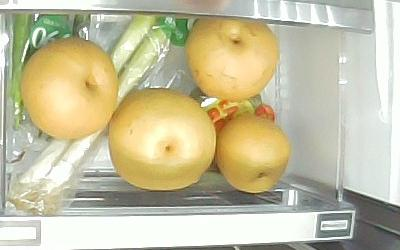pear: (108, 87, 217, 190), (20, 37, 119, 140), (185, 17, 280, 99), (217, 114, 291, 194)
